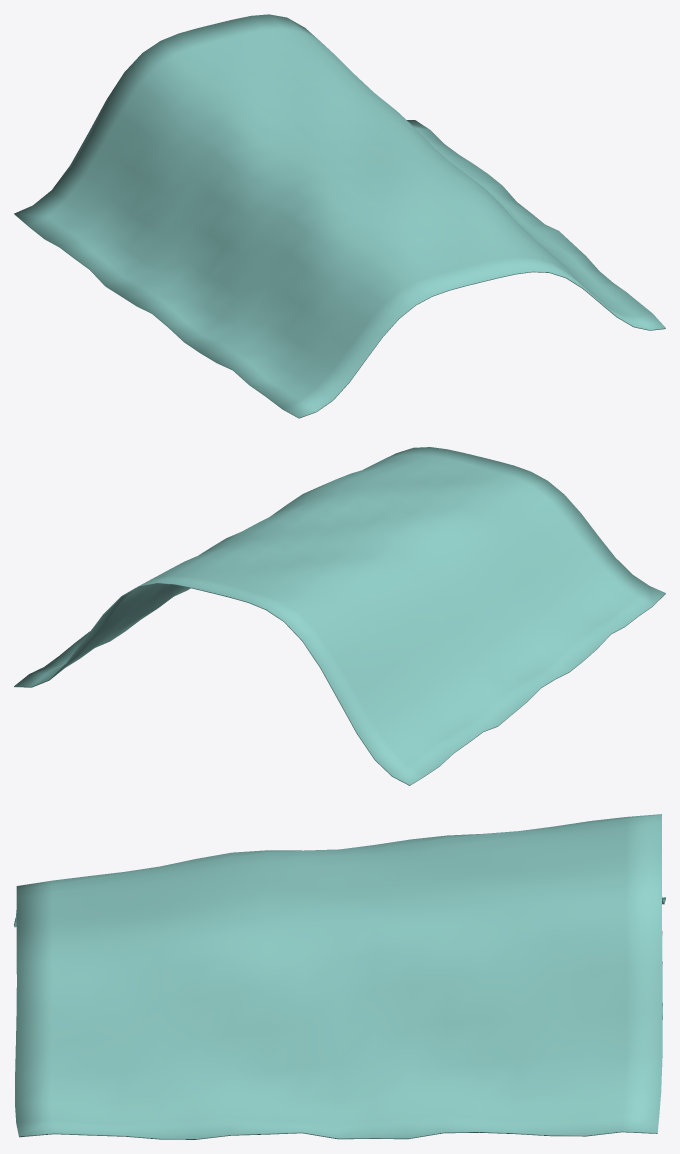
File: drape.glb
3 renders of one model, top to bottom at view 1: azimuth 30°, elevation 25°; view 2: azimuth 150°, elevation 25°; view 3: azimuth 270°, elevation 25°, orthographic. The views are drawn at different scales.
Parts seen in each view (by area): view 1: Occupied care drape; view 2: Occupied care drape; view 3: Occupied care drape.
Boxes of the visible parts, x1,y1,x2,y2 form: Occupied care drape: (14, 14, 665, 418); Occupied care drape: (14, 447, 665, 785); Occupied care drape: (14, 814, 665, 1139).
Size of the model in its own units: 1.21 by 0.4501 by 1.42.
